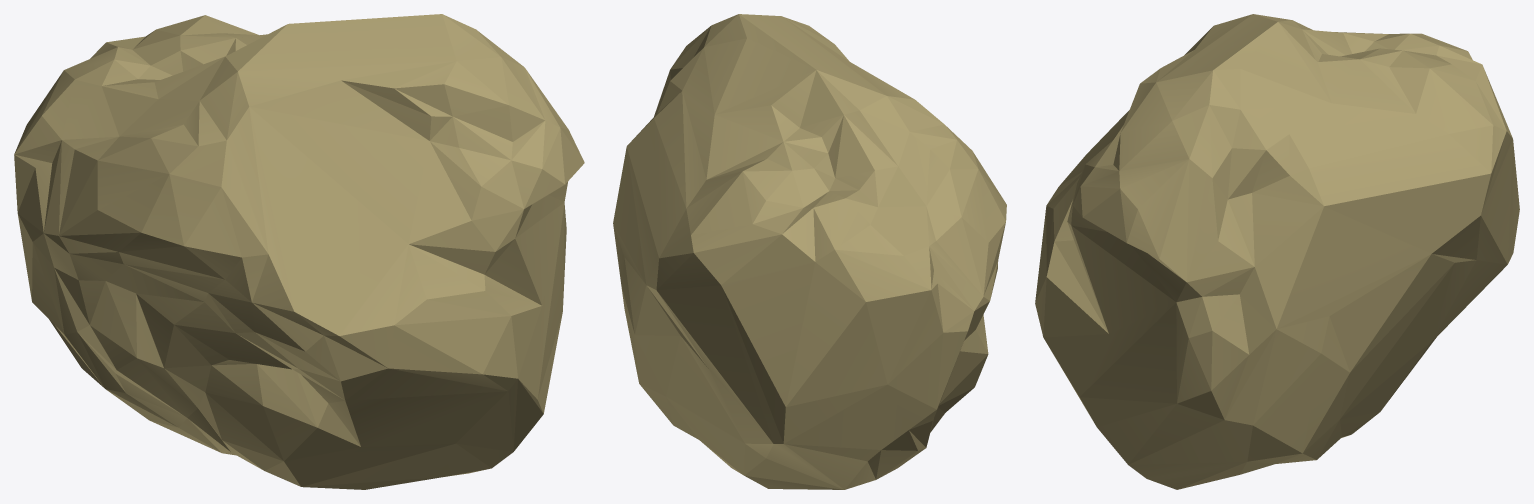
Rendered from SM_rock_24.fbx.
3 renders of one model, left to right at view 1: azimuth 30°, elevation 25°; view 2: azimuth 150°, elevation 25°; view 3: azimuth 270°, elevation 25°, orthographic. The views are drawn at different scales.
Visible parts, largest first — view 1: rock_24; view 2: rock_24; view 3: rock_24.
Part boxes in pixels (bbox=[...]): rock_24: bbox=[14, 14, 584, 489]; rock_24: bbox=[613, 14, 1006, 489]; rock_24: bbox=[1035, 14, 1519, 489].
Size of the model in its own units: 245 by 236 by 249.
